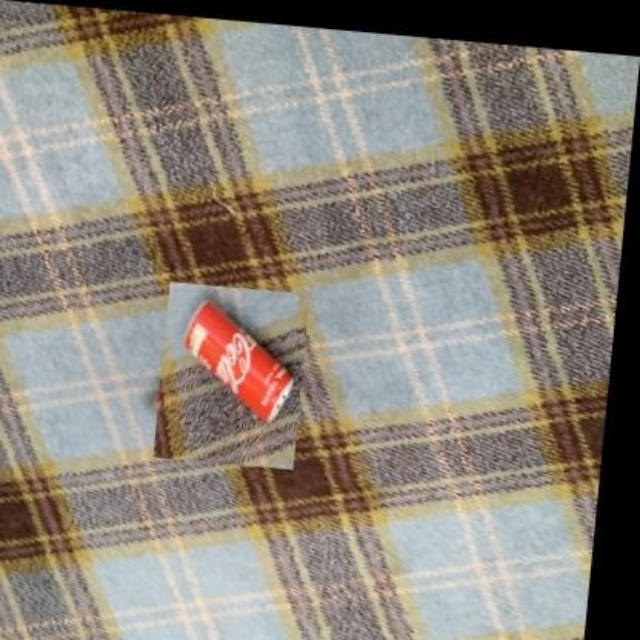trash: (185, 302, 292, 420)
